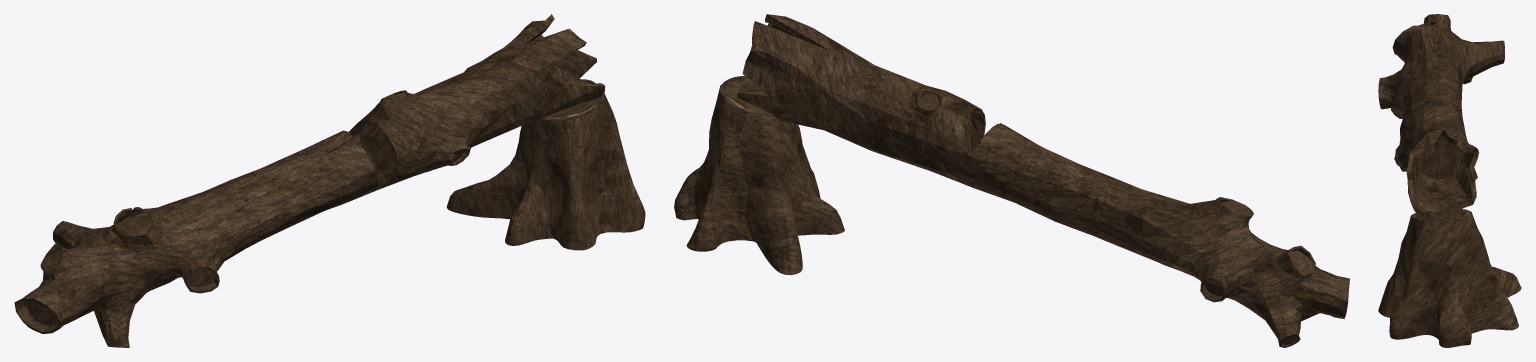
Rendered from fallen-tree.dae.
The picture shows the model from 3 angles, left to right: view 1: azimuth 30°, elevation 25°; view 2: azimuth 150°, elevation 25°; view 3: azimuth 270°, elevation 25°; orthographic projection. The views are drawn at different scales.
Visible parts, largest first — view 1: LOG_01, LOG_, LOG_03, LOG_02; view 2: LOG_01, LOG_, LOG_03, LOG_02; view 3: LOG_01, LOG_, LOG_03, LOG_02.
Boxes of the visible parts, box(x1,y1,x2,y2) form: LOG_01: box(14, 14, 605, 347); LOG_: box(446, 94, 645, 250); LOG_03: box(24, 121, 465, 327); LOG_02: box(542, 79, 604, 121); LOG_01: box(737, 14, 1349, 347); LOG_: box(674, 86, 844, 275); LOG_03: box(920, 93, 1313, 344); LOG_02: box(720, 75, 776, 118); LOG_01: box(1378, 14, 1504, 216); LOG_: box(1378, 213, 1521, 347); LOG_03: box(1396, 28, 1464, 178); LOG_02: box(1410, 209, 1471, 220).
Bounding box in the file's own units: 1.4 × 0.3148 × 0.426.
4 materials, 4 textured.
